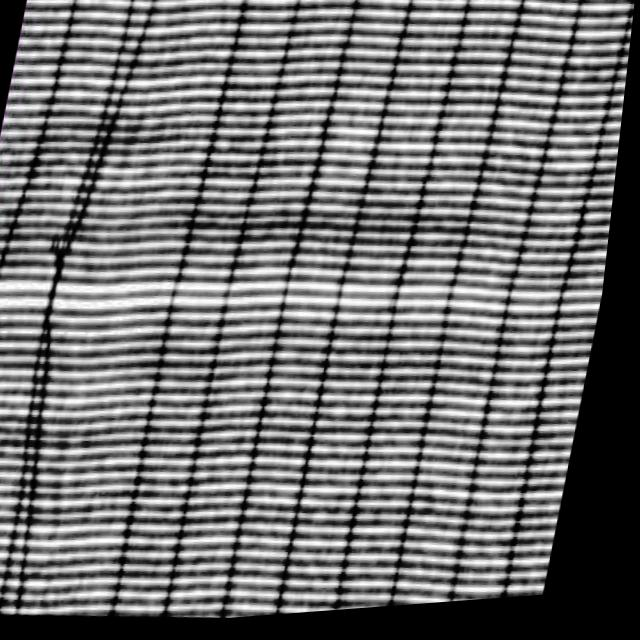Stitch: (6, 121, 141, 451)
